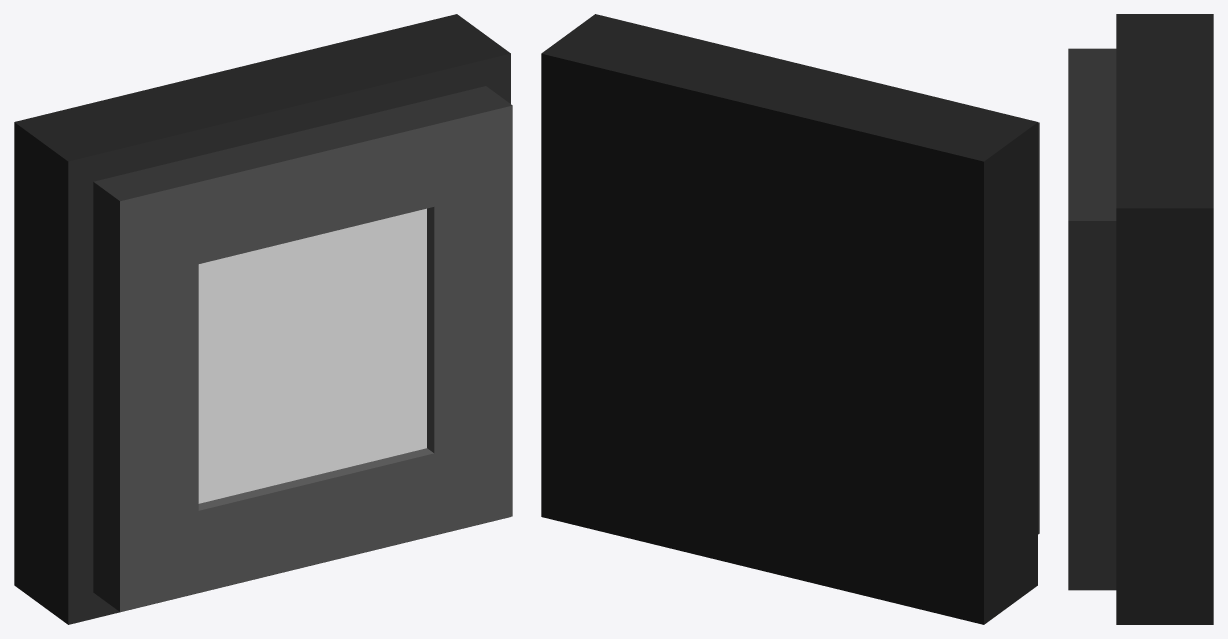
Rendered from luxcapacitor.obj.
3 views of the same model, side by side, from view 1: azimuth 30°, elevation 25°; view 2: azimuth 150°, elevation 25°; view 3: azimuth 270°, elevation 25° (orthographic). The views are drawn at different scales.
Visible parts, largest first — view 1: lightBase, lightlens; view 2: lightBase; view 3: lightBase.
Boxes of the visible parts, x1=… form: lightBase: x1=14, y1=14, x2=512, y2=624; lightlens: x1=198, y1=208, x2=426, y2=503; lightBase: x1=541, y1=14, x2=1039, y2=624; lightBase: x1=1068, y1=14, x2=1213, y2=624.
Bounding box in the file's own units: 0.8063 × 0.8063 × 0.2549.
